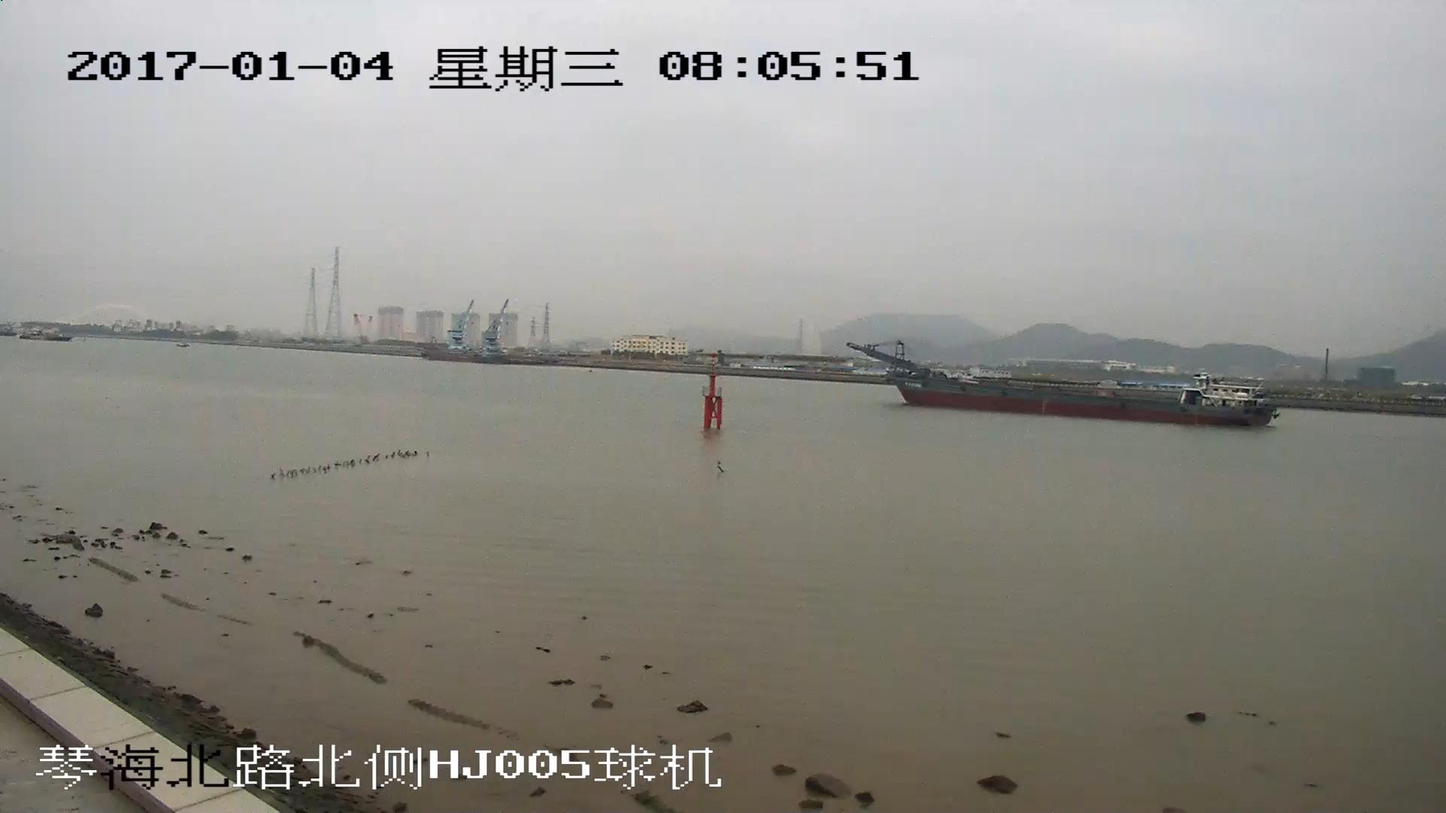bulk cargo carrier: (848, 342, 1275, 426)
